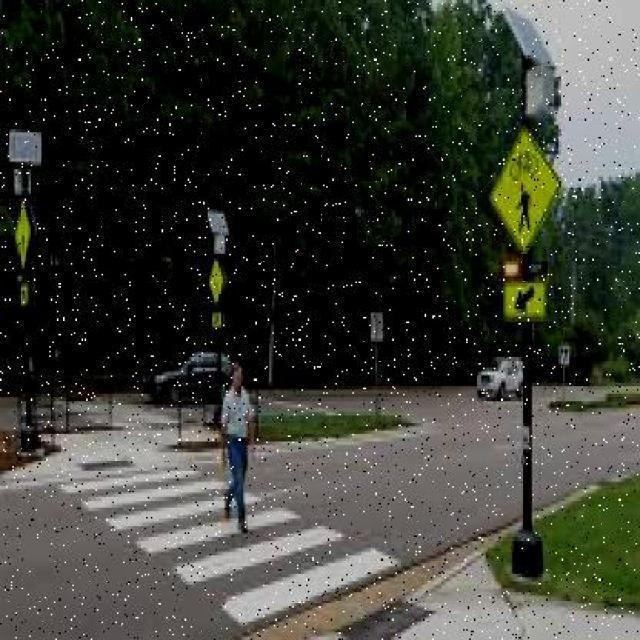crosswalk: (51, 465, 405, 630)
